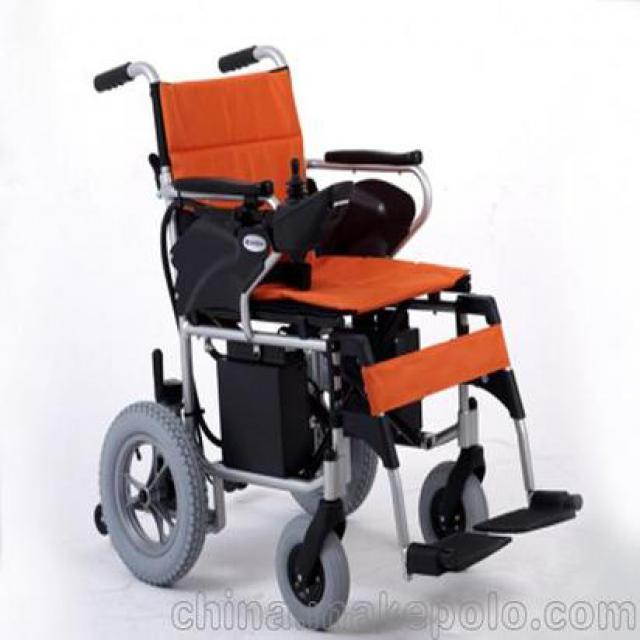wheelchair: (91, 34, 592, 625)
